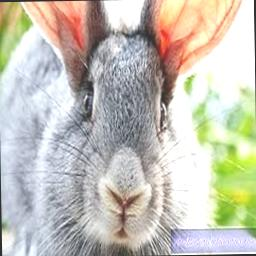rabbit: (0, 0, 242, 256)
